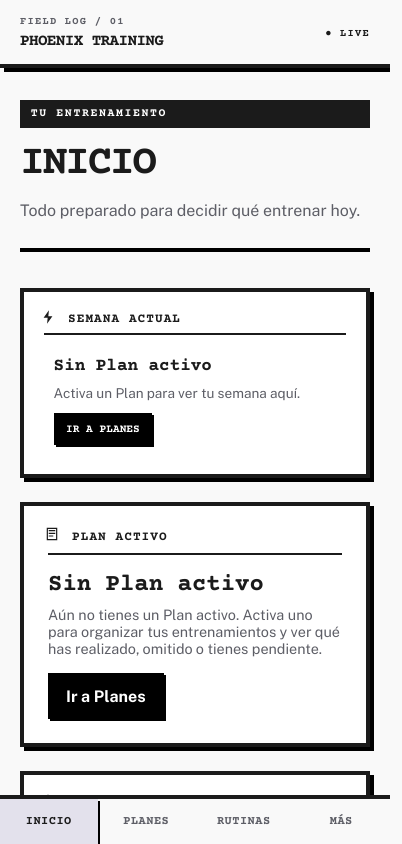
Test: application navigation › a Deportista can reach Planes from the mobile navigation
What coordinates should you click on to do the following:
click the link "Planes"
I would click on:
 (146, 822)
Its box is left=123, top=815, right=169, bottom=828.
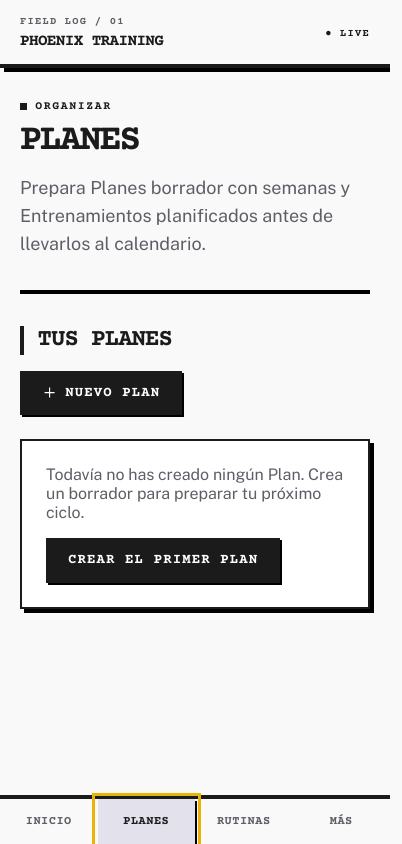
Expected: the heading "Planes" is shown, left=20, top=120, right=139, bottom=162
